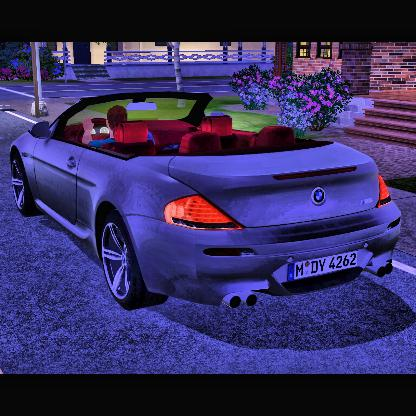BMW M6 Convertible 2010: (9, 90, 403, 313)
